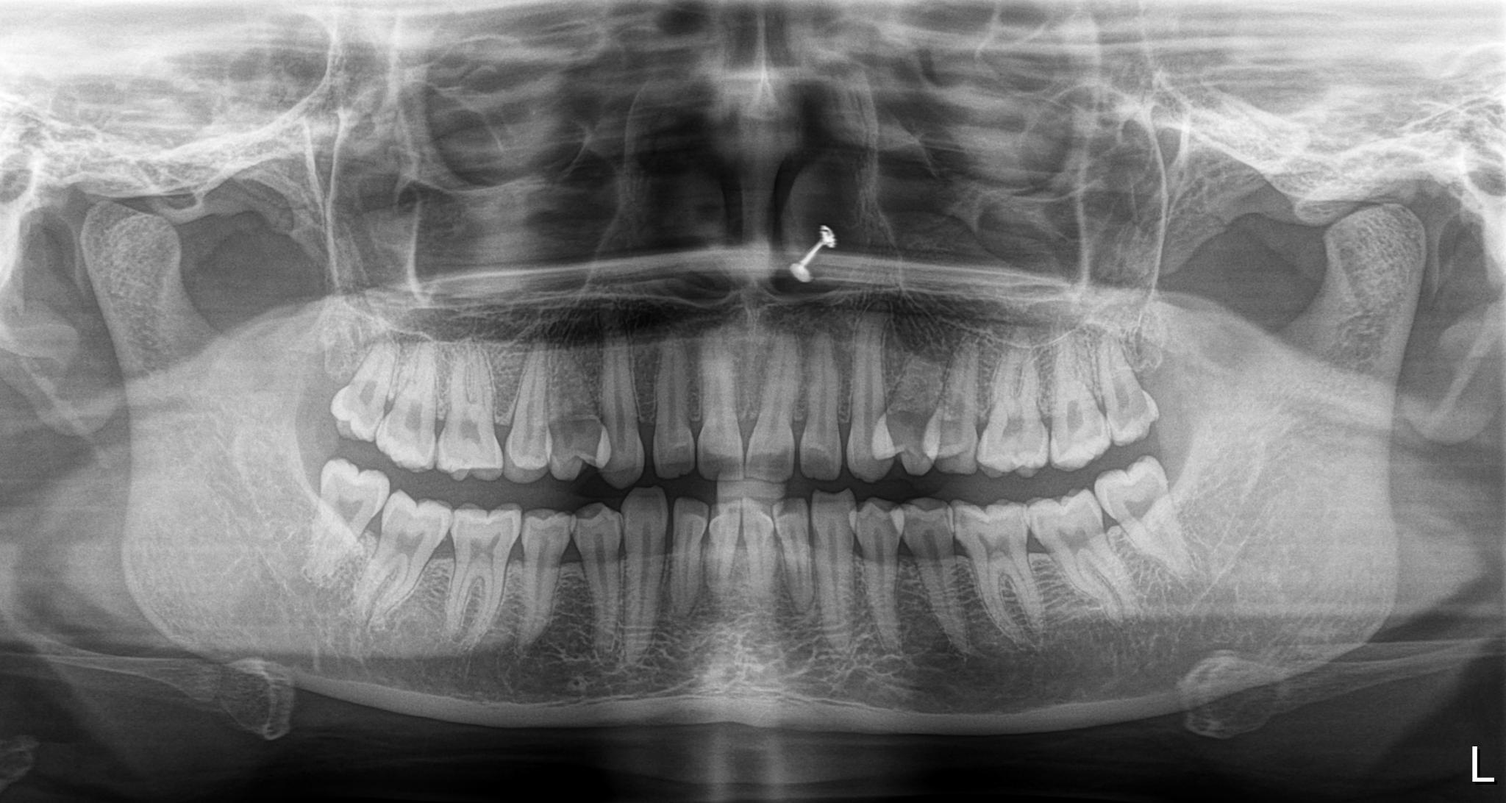Dental Caries: (544, 414, 604, 470), (886, 408, 932, 454)
